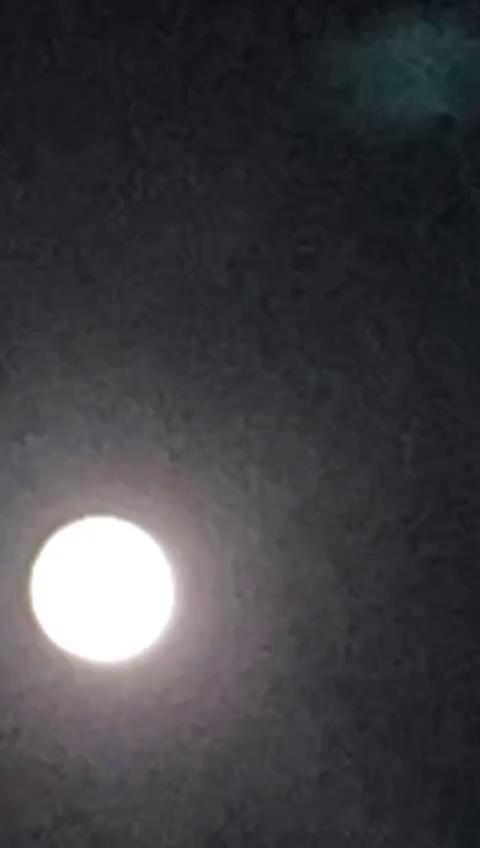moon: (64, 474, 236, 666)
